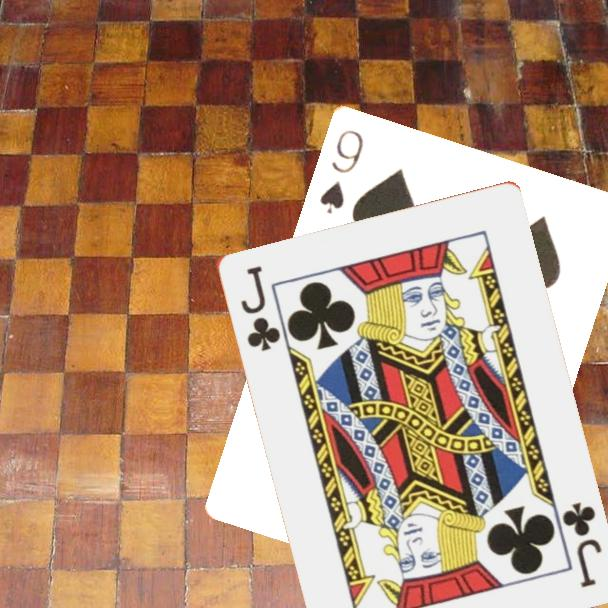c11: (236, 261, 283, 354), (558, 498, 604, 590)
s09: (316, 125, 366, 216)
